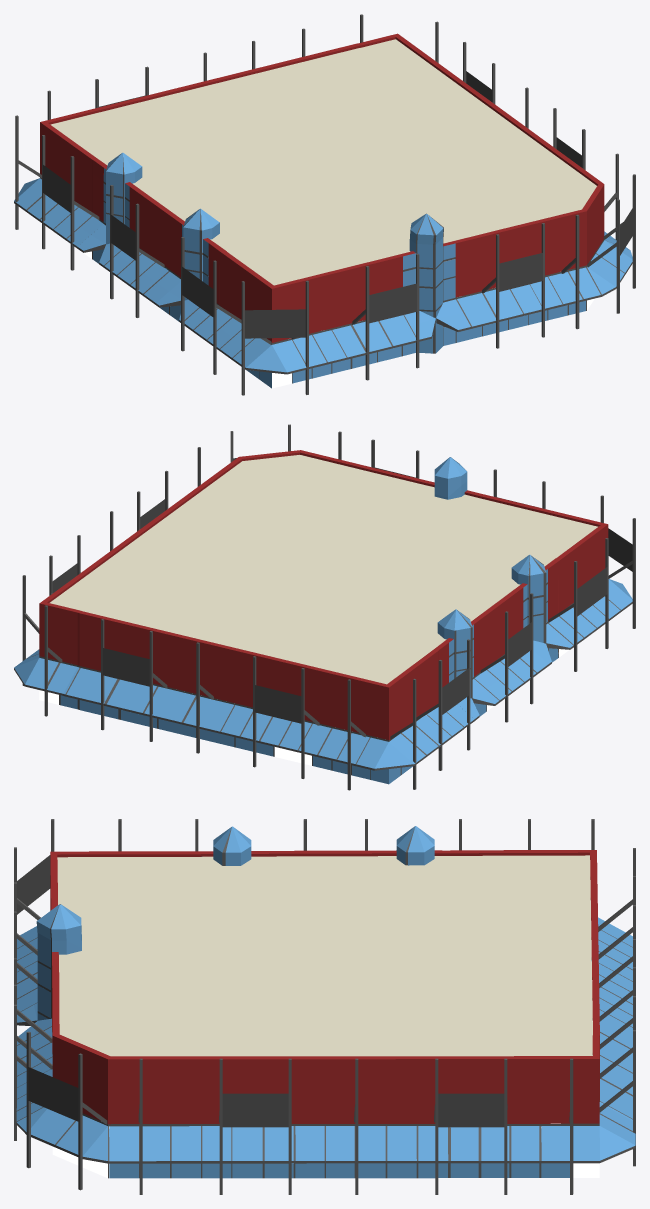
The model's file is wbbuilding2V4_draco.glb.
3 renders of one model, top to bottom at view 1: azimuth 30°, elevation 25°; view 2: azimuth 150°, elevation 25°; view 3: azimuth 270°, elevation 25°, orthographic. The views are drawn at different scales.
Visible parts, largest first — view 1: Cube.005; view 2: Cube.005; view 3: Cube.005.
Part boxes in pixels (x1,y1,x2,y2): Cube.005: [14, 14, 635, 395]; Cube.005: [14, 424, 635, 790]; Cube.005: [14, 819, 635, 1194].
Size of the model in its own units: 3660 by 1127 by 3992.
